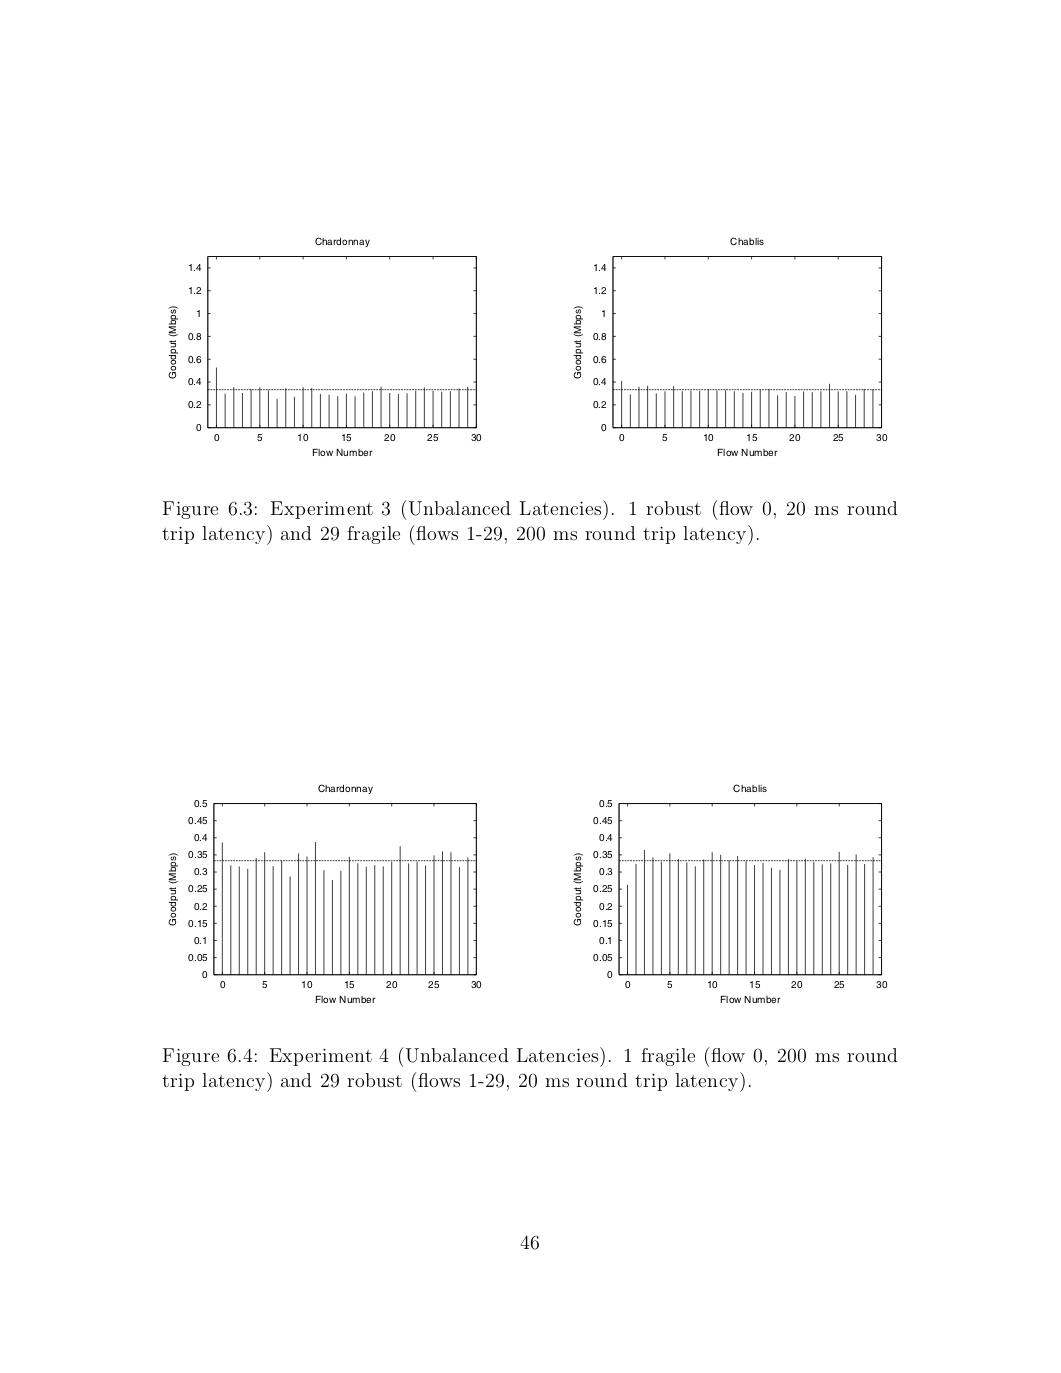figure: (573, 800, 887, 1003), (168, 800, 481, 1003), (573, 256, 887, 456), (168, 256, 481, 456)
